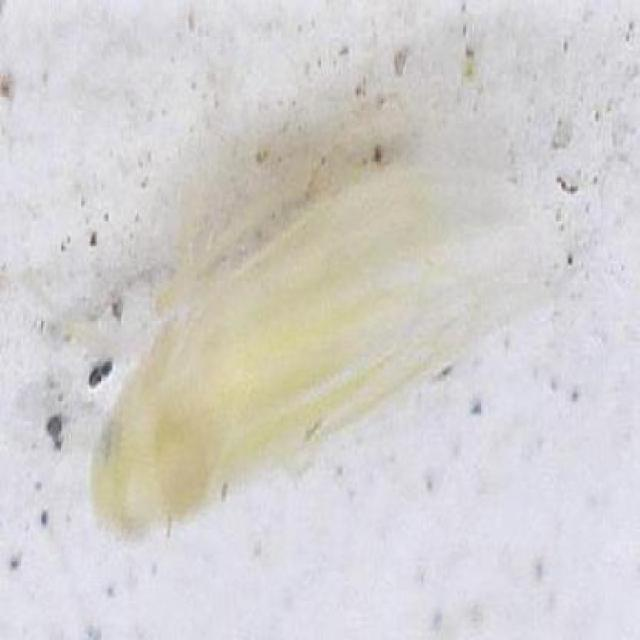green-leafhopper: (86, 121, 551, 550)
